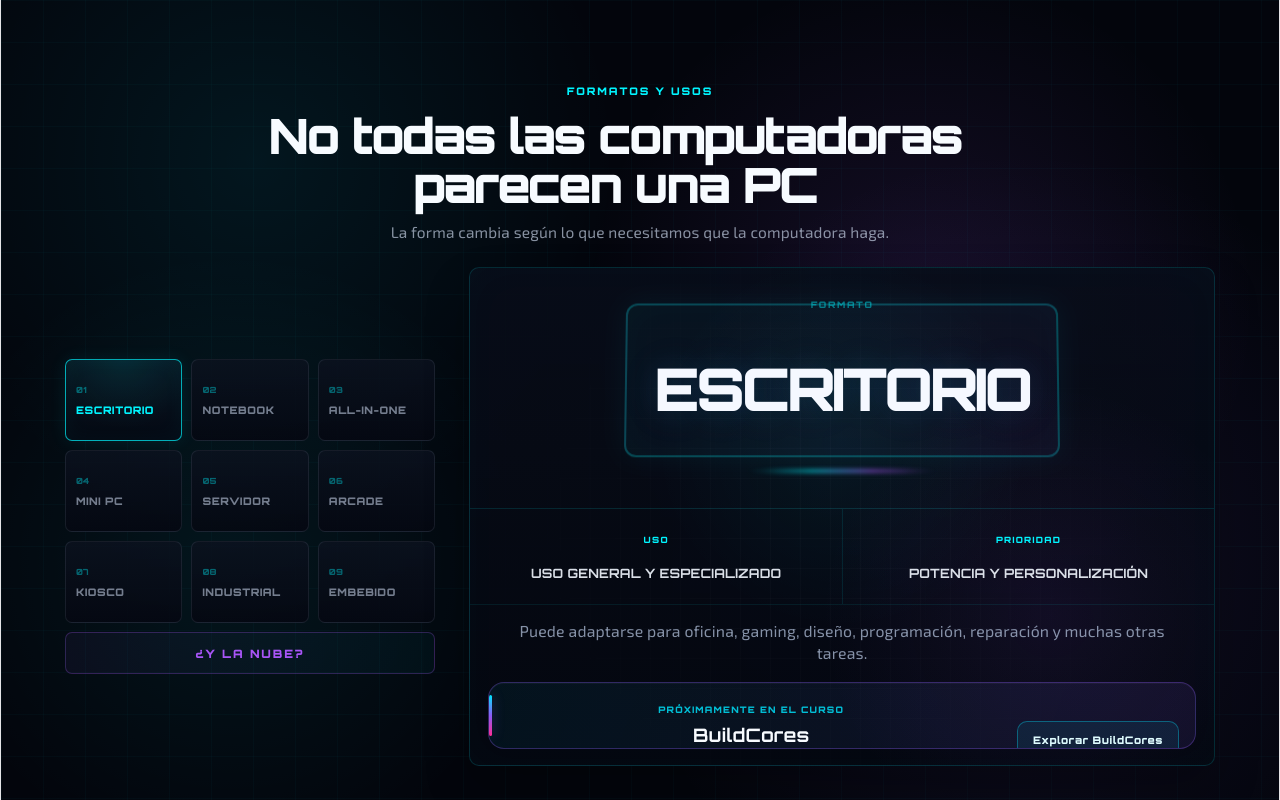
Test: Slide 09 tipos de computadora › explica cómo cambia la computadora según su función
The width and height of the screenshot is (1280, 800).
Step 1. Click the button "05 SERVIDOR" → (250, 491), box [191, 450, 309, 532]
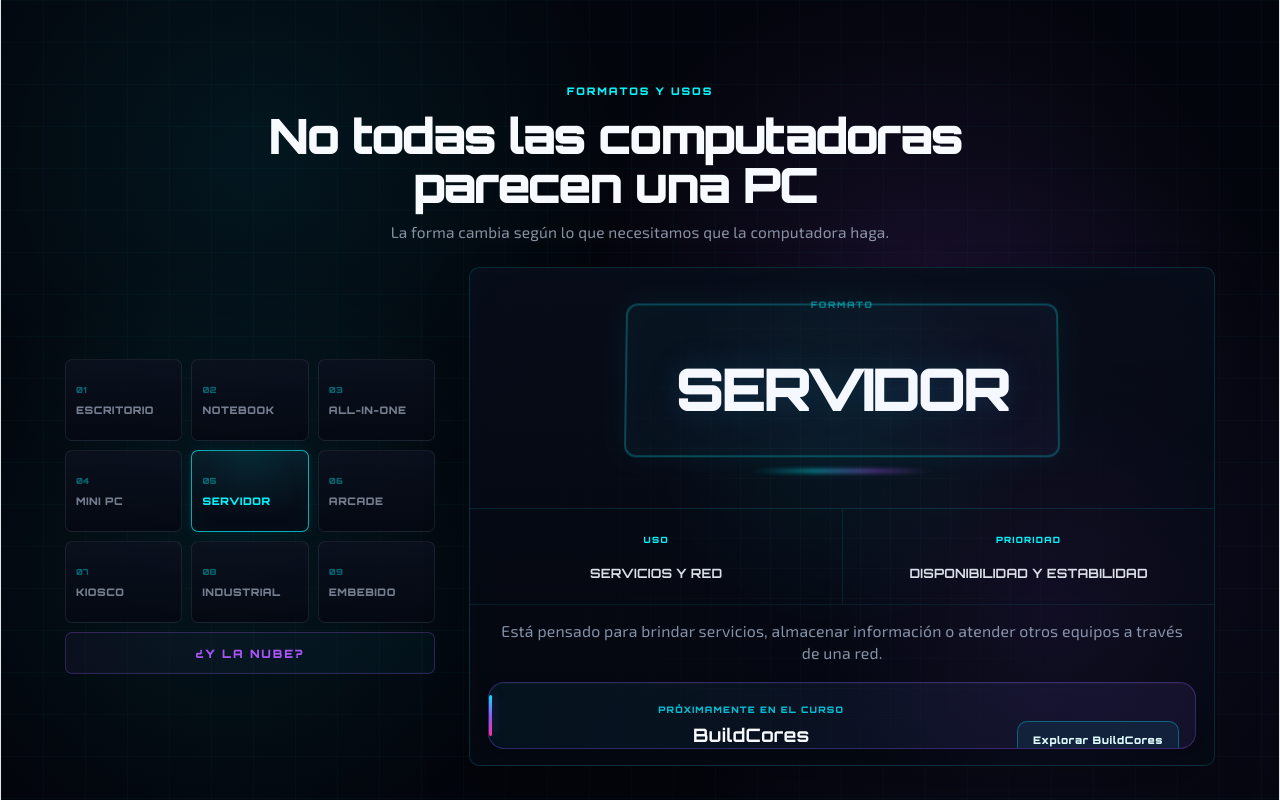
Check: the text "SERVICIOS Y RED" is shown, box [590, 565, 722, 581]
Check: the text "DISPONIBILIDAD Y ESTABILIDAD" is shown, box [909, 565, 1148, 581]
Step 2. Click the button "06 ARCADE" → (376, 491), box [318, 450, 435, 532]
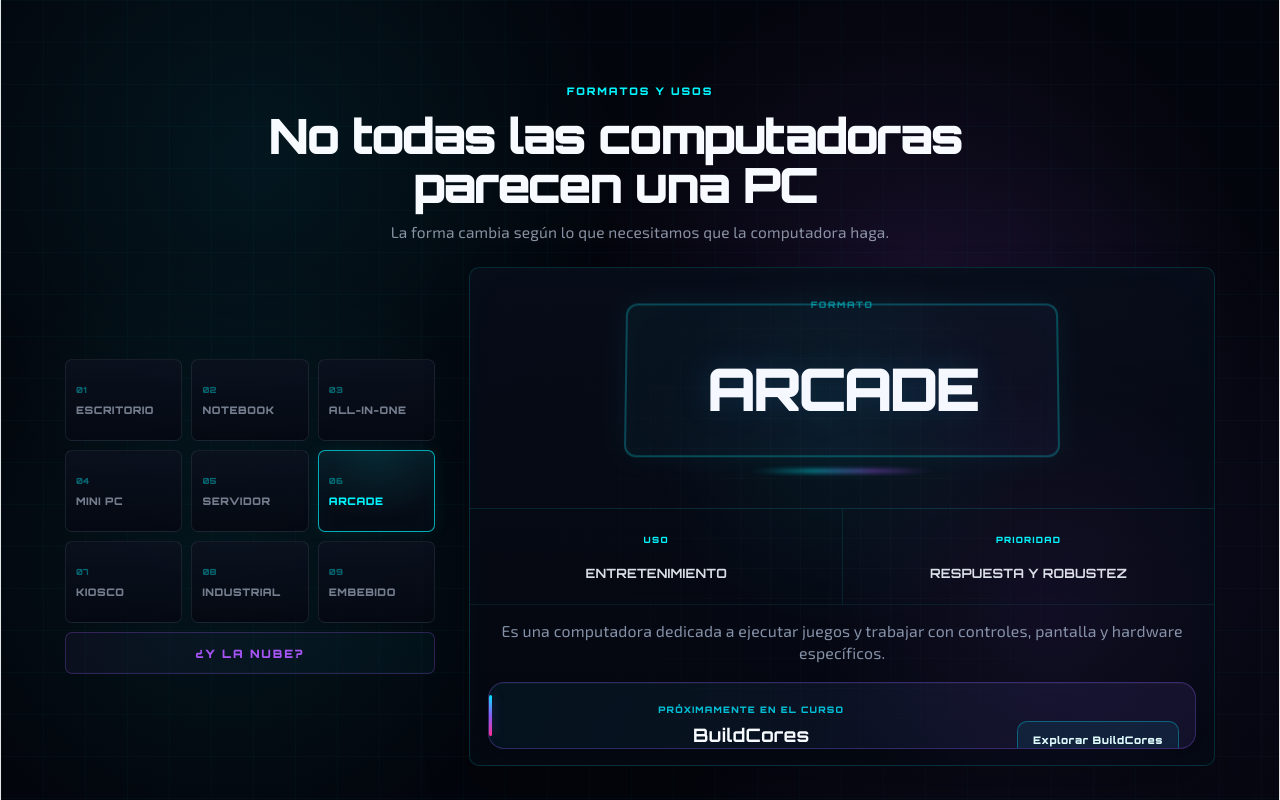
Check: the text "ENTRETENIMIENTO" is shown, box [586, 565, 727, 581]
Check: the text "RESPUESTA Y ROBUSTEZ" is shown, box [930, 565, 1127, 581]
Step 3. Click the button "08 INDUSTRIAL" → (250, 582), box [191, 541, 309, 623]
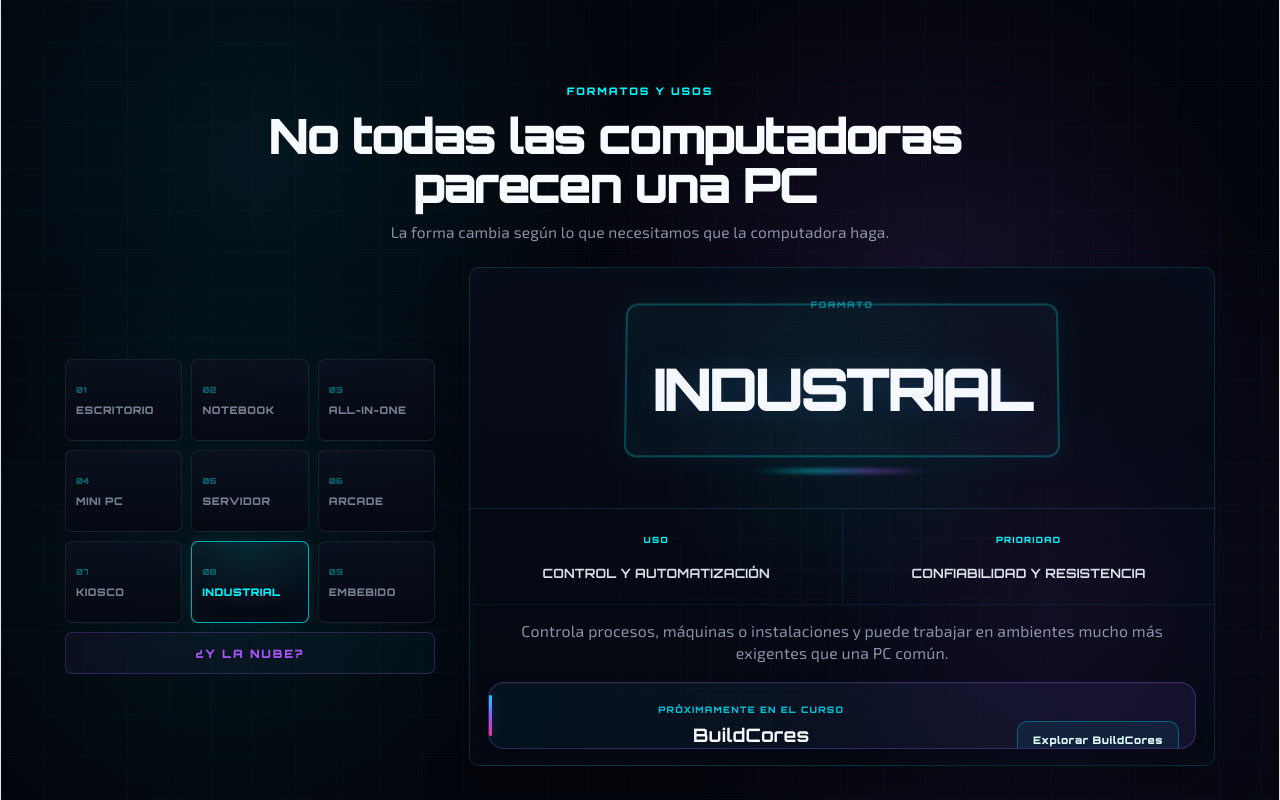
Check: the text "CONTROL Y AUTOMATIZACIÓN" is shown, box [542, 565, 770, 581]
Check: the text "CONFIABILIDAD Y RESISTENCIA" is shown, box [912, 565, 1146, 581]
